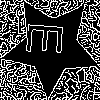E: (26, 21, 73, 57)
